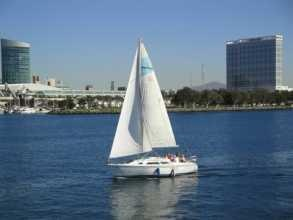fanchuan: (103, 34, 209, 180)
